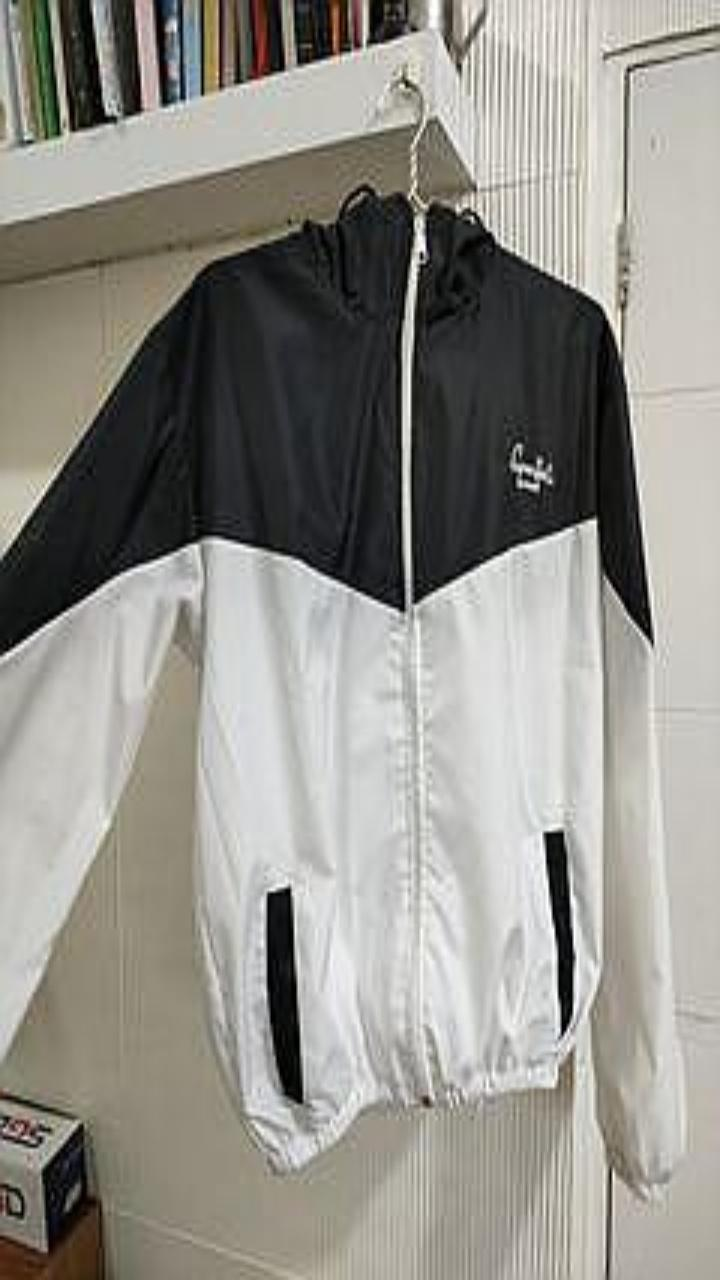Sports_Jacket: (0, 185, 684, 1196)
